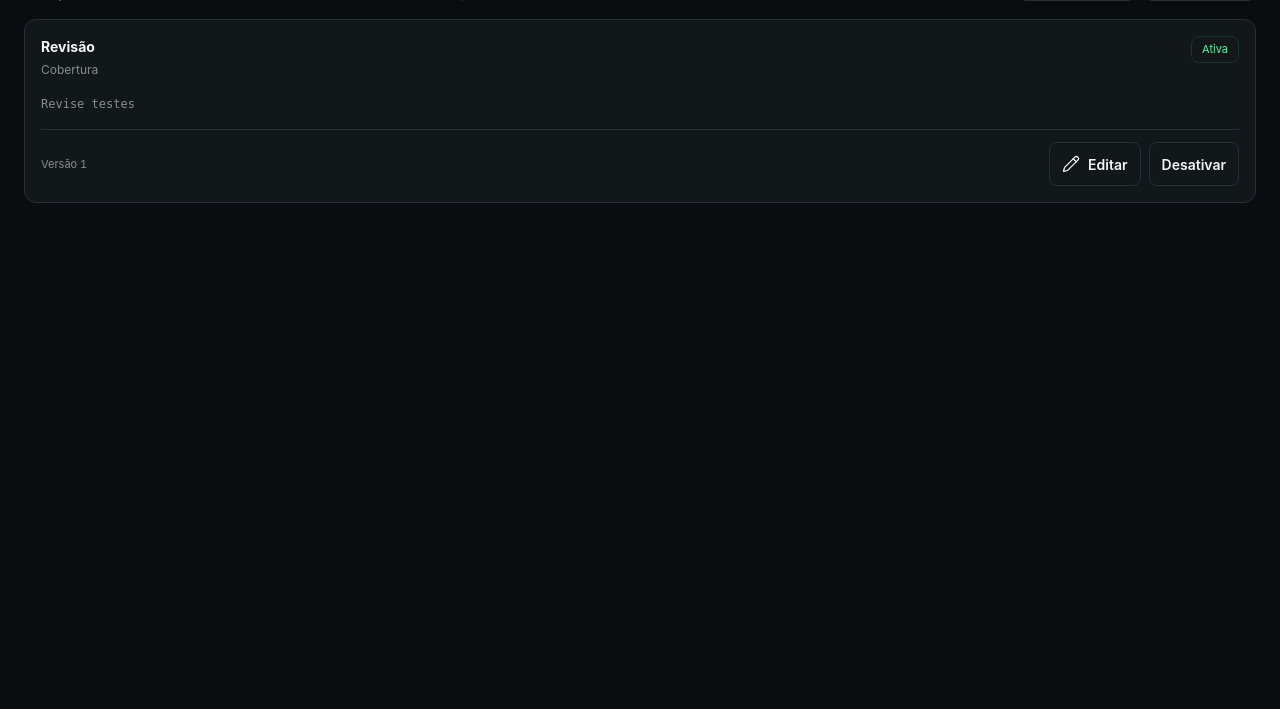
Test case: opens the form with the skill when editing and closes it after saving
The width and height of the screenshot is (1280, 709).
Click the button with aria-label "Editar Revisão": (1095, 164) [1049,142,1141,186]
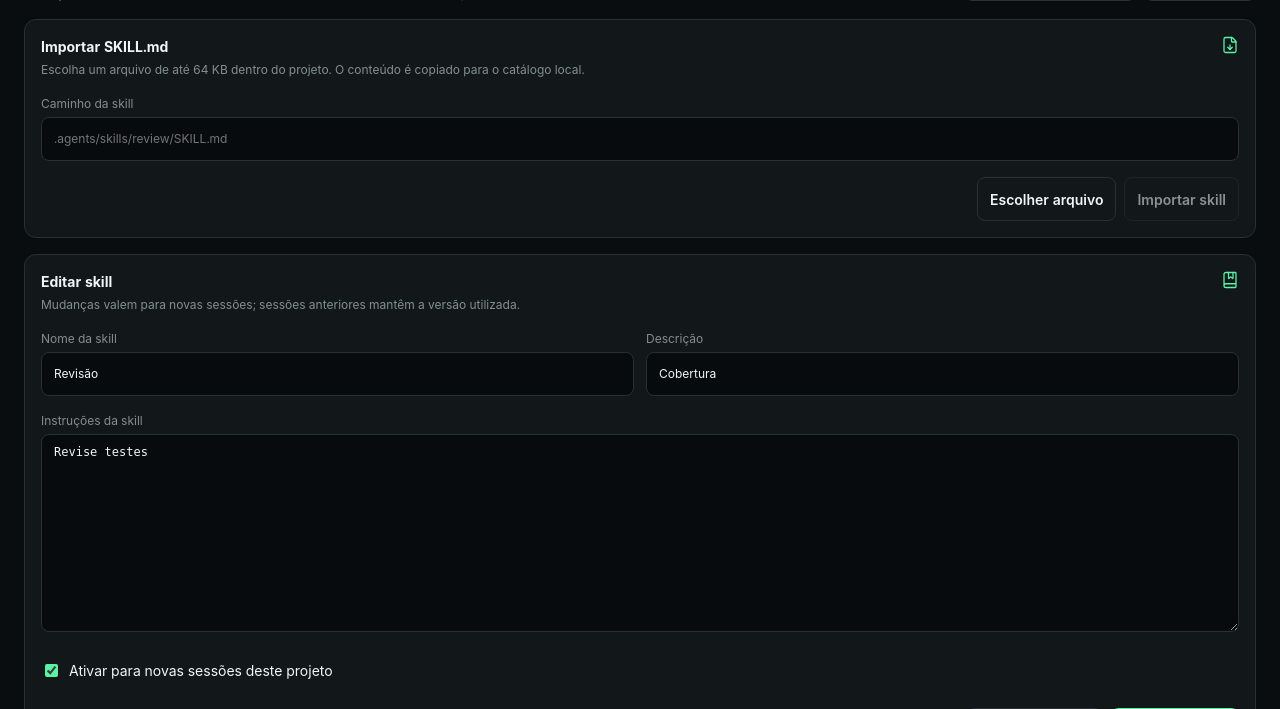
expect the field labelled "Nome da skill" holds "Revisão": met, box [41,352,634,396]
Replace the text in the text box labelled "Instruções da skill" with "Revise testes e riscos": (640, 533) [41,434,1239,632]
(page scrolled)
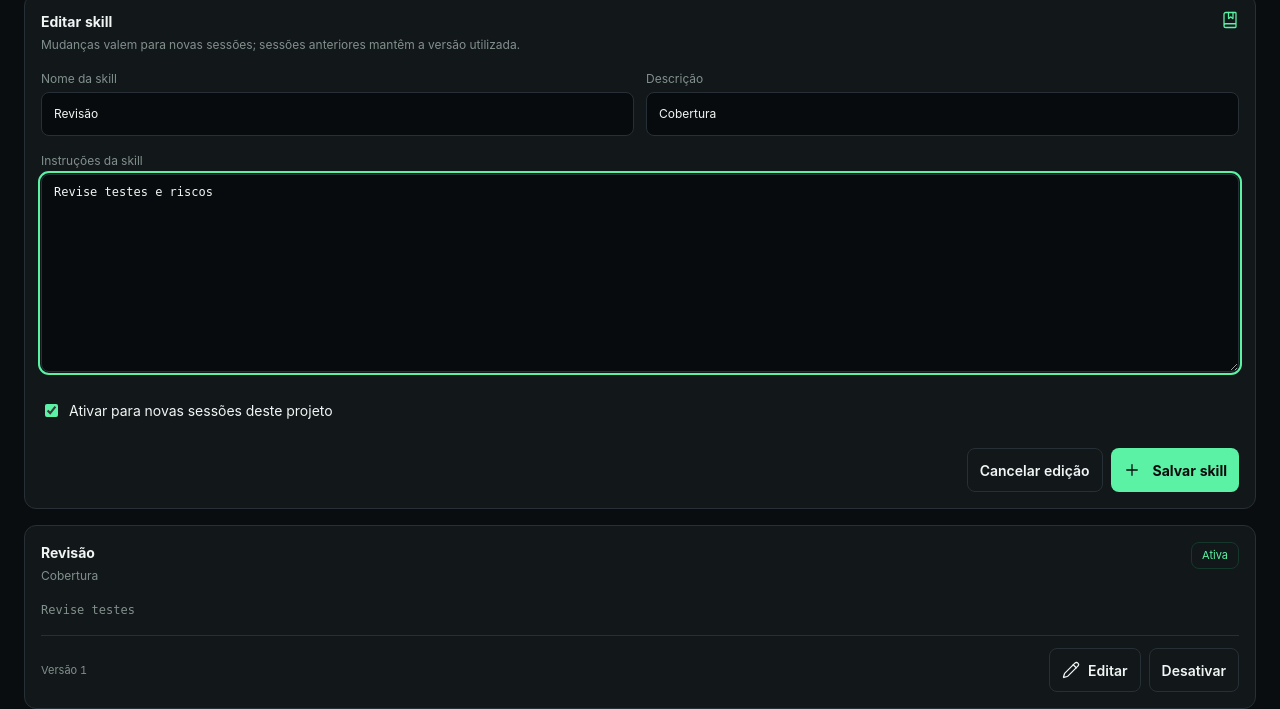
Click the button "Salvar skill": (1175, 470) [1111,448,1239,492]
(page scrolled)
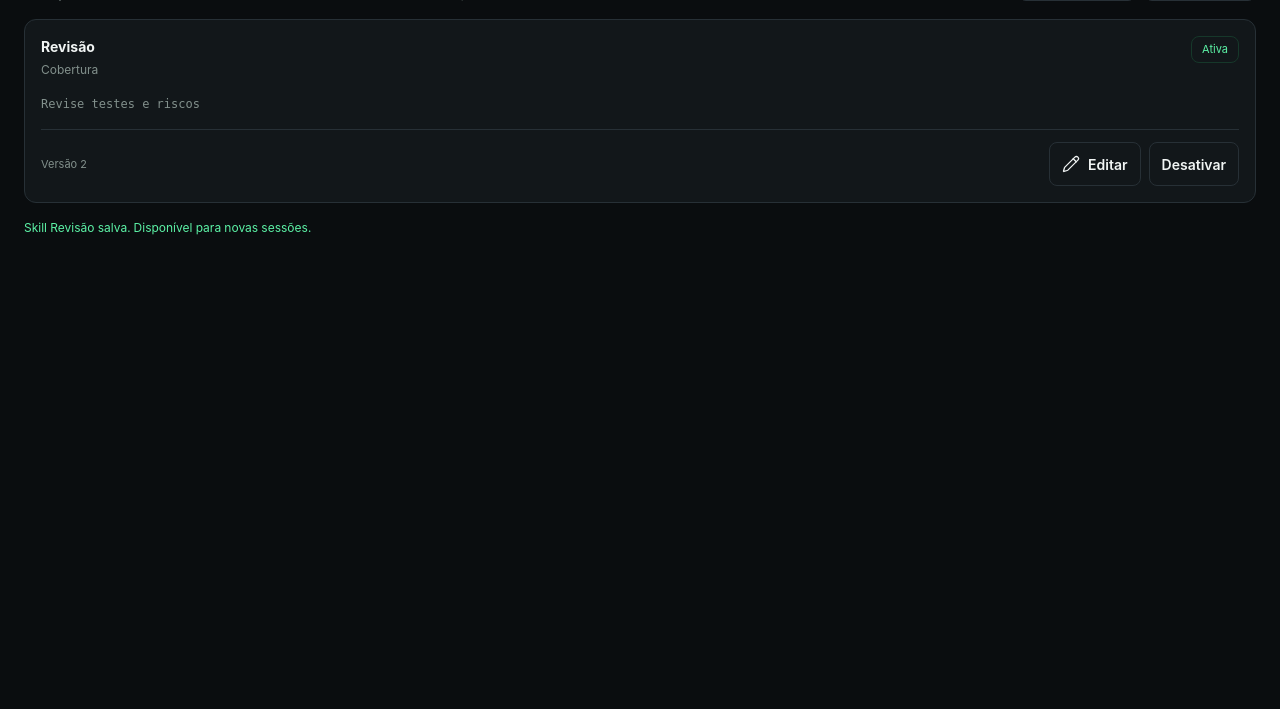
expect the text "Revise testes e riscos" is shown: met, box [41,97,200,111]
expect the label labelled "Nome da skill" is gone: met
